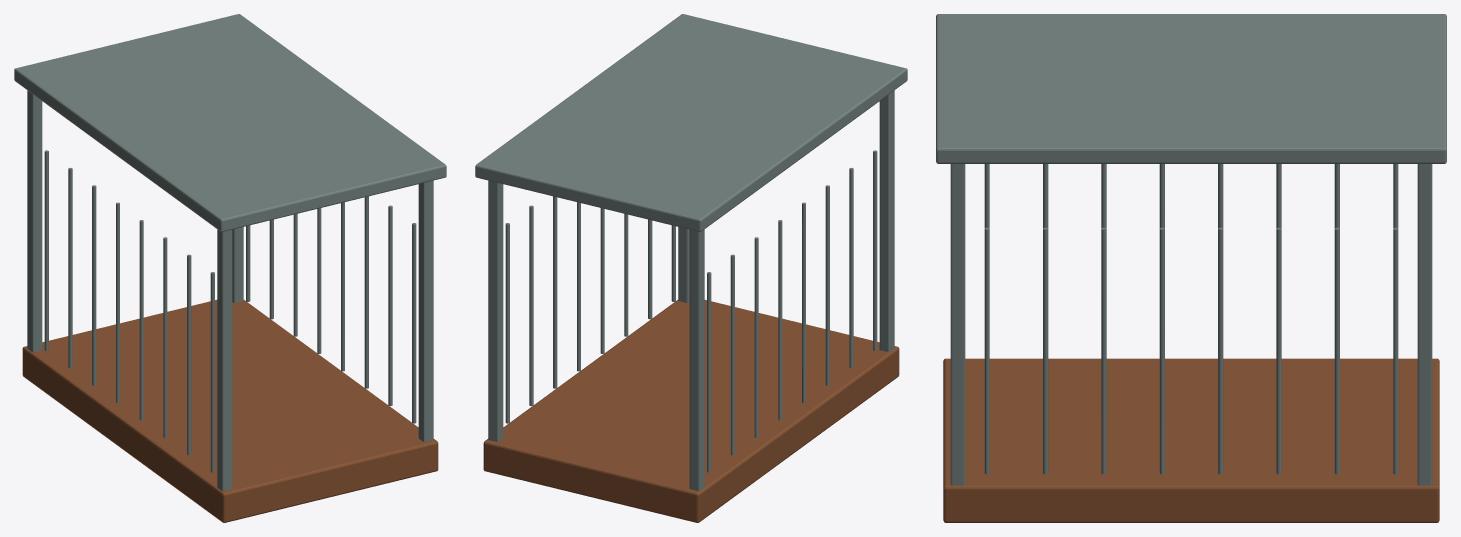
File: mine_lift.glb
3 views of the same model, side by side, from view 1: azimuth 30°, elevation 25°; view 2: azimuth 150°, elevation 25°; view 3: azimuth 270°, elevation 25° (orthographic). The views are drawn at different scales.
Parts seen in each view (by area): view 1: mine_lift; view 2: mine_lift; view 3: mine_lift.
Part boxes in pixels (bbox=[...]): mine_lift: bbox=[14, 14, 446, 522]; mine_lift: bbox=[475, 14, 907, 522]; mine_lift: bbox=[936, 14, 1446, 522].
Size of the model in its own units: 2.2 by 2.86 by 3.5.
